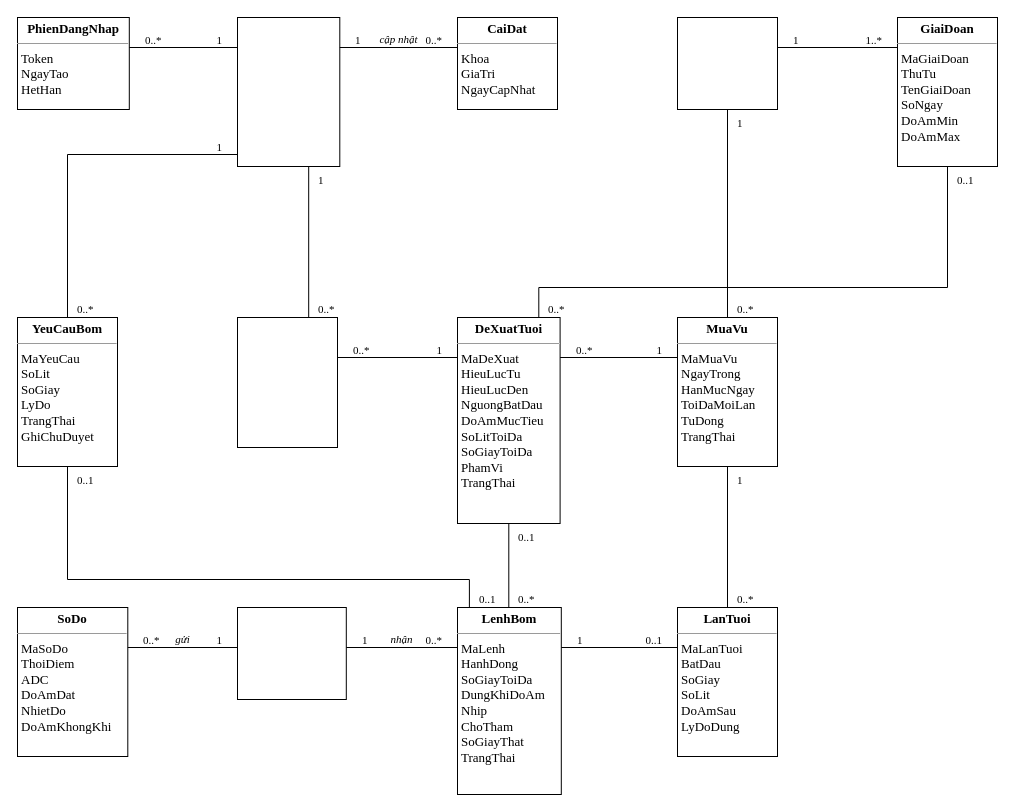
Image size: 1015x812. Some labels were removed from this diagram. Here are the shapes that lost their labels. From the top down, the centre of each, then its label:
At point 727,63: "LoaiCay MaLoaiCay TenLoaiCay MoTa".
At point 288,91: "NguoiDung MaNguoiDung TenDangNhap HoTen MatKhauBam VaiTro DangHoatDong".
At point 287,382: "GhiDe MaGhiDe HanhDong GiayCu GiayMoi LyDo".
At point 291,653: "ThietBi MaThietBi LanCuoiLienLac BomDangChay".
